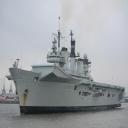Portanaves: (10, 14, 128, 119)
